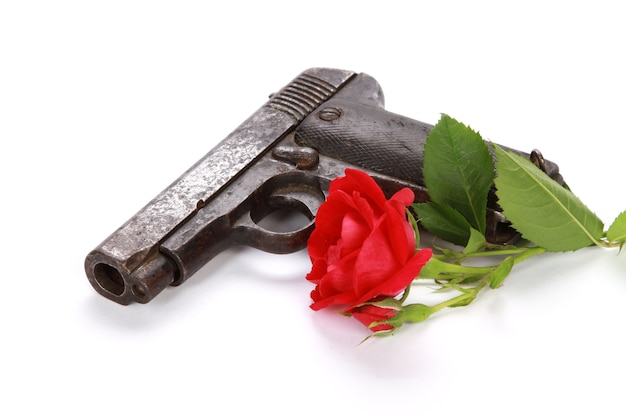gun: (84, 68, 577, 308)
